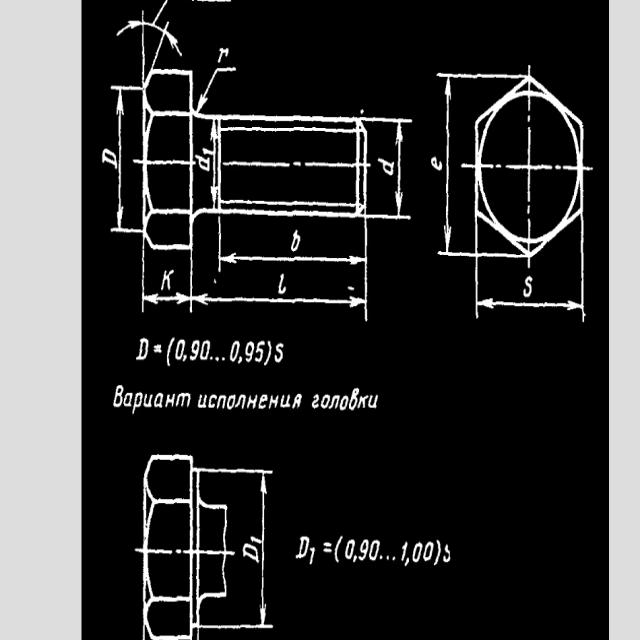marking_line: (189, 251, 369, 319), (217, 216, 370, 274), (472, 257, 588, 321), (228, 468, 273, 629), (437, 72, 474, 260), (110, 83, 142, 235), (367, 117, 413, 221), (116, 10, 181, 68), (141, 250, 193, 312), (196, 67, 238, 112)
numeric: (101, 147, 118, 170), (378, 155, 395, 177), (137, 335, 149, 362), (242, 543, 259, 562), (297, 536, 311, 559), (195, 155, 211, 173), (368, 538, 380, 561), (291, 227, 302, 252), (358, 538, 369, 561), (245, 337, 255, 362), (345, 538, 356, 560), (255, 339, 265, 363), (278, 272, 288, 296), (229, 341, 240, 362), (161, 269, 171, 292), (274, 341, 284, 362), (190, 340, 200, 361), (429, 156, 443, 171), (218, 46, 230, 63), (424, 542, 434, 562), (413, 541, 422, 563), (443, 541, 451, 565), (524, 275, 532, 298), (201, 341, 210, 360), (176, 339, 184, 360), (400, 542, 408, 562), (203, 145, 213, 157), (309, 546, 315, 565), (251, 534, 262, 544)
special_symbol: (333, 535, 344, 563), (434, 538, 443, 565), (167, 338, 175, 366), (264, 339, 272, 366), (322, 539, 332, 556), (153, 342, 162, 356), (403, 557, 409, 567), (385, 554, 391, 563), (352, 554, 357, 563), (392, 555, 397, 562), (379, 554, 383, 561)
